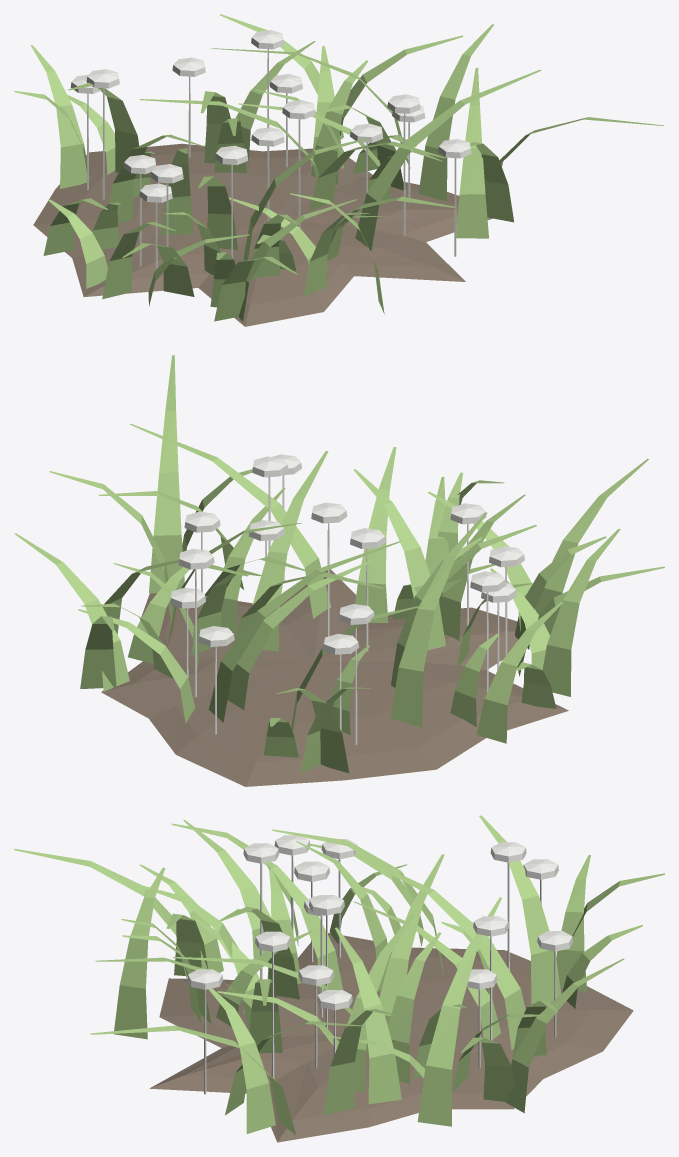
The model's file is temperate-forest-ecology-wild-garlic-carpet-61792f89__3855.glb.
3 renders of one model, top to bottom at view 1: azimuth 30°, elevation 25°; view 2: azimuth 150°, elevation 25°; view 3: azimuth 270°, elevation 25°, orthographic. The views are drawn at different scales.
Visible parts, largest first — view 1: wild-garlic-carpet; view 2: wild-garlic-carpet; view 3: wild-garlic-carpet.
Part boxes in pixels (left/top/right/bottom): wild-garlic-carpet: left=14, top=14, right=664, bottom=326; wild-garlic-carpet: left=14, top=355, right=664, bottom=786; wild-garlic-carpet: left=14, top=815, right=664, bottom=1142.
Bounding box in the file's own units: 2 × 0.5472 × 2.11.
